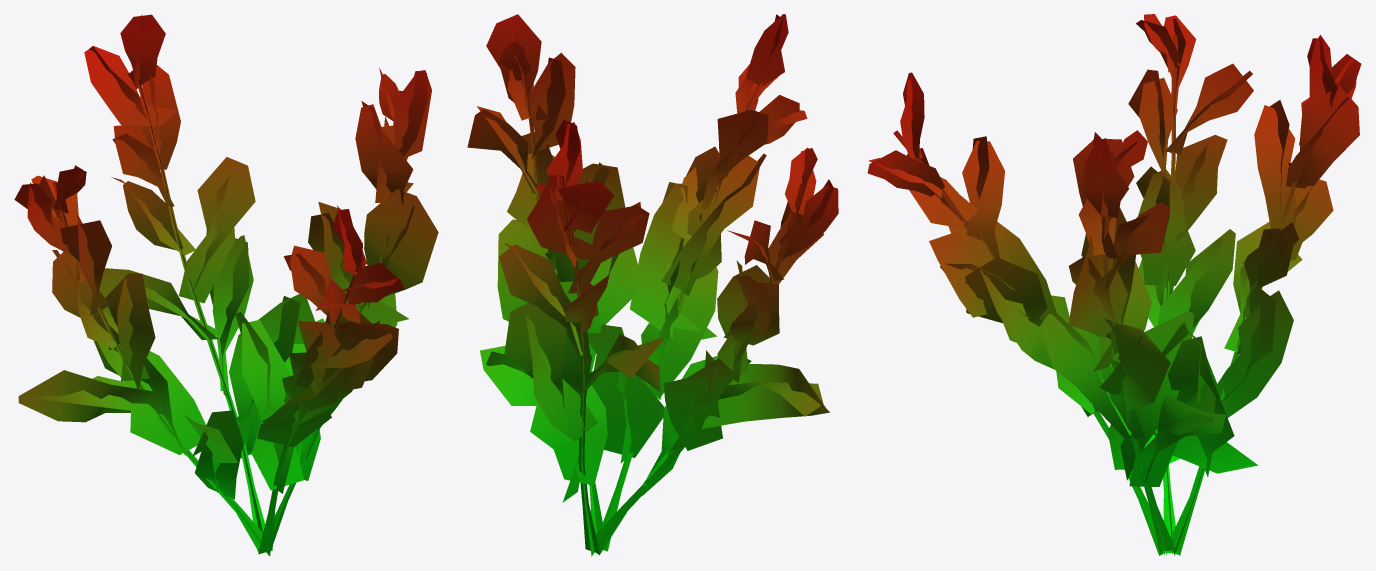
The model's file is Chamomile_LOD0_Var8_ujcnejvja.fbx.
3 renders of one model, left to right at view 1: azimuth 30°, elevation 25°; view 2: azimuth 150°, elevation 25°; view 3: azimuth 270°, elevation 25°, orthographic.
Parts seen in each view (by area): view 1: _uaeh_Var8_LOD0; view 2: _uaeh_Var8_LOD0; view 3: _uaeh_Var8_LOD0.
Boxes of the visible parts, x1,y1,x2,y2 form: _uaeh_Var8_LOD0: [14, 14, 438, 556]; _uaeh_Var8_LOD0: [467, 14, 838, 556]; _uaeh_Var8_LOD0: [867, 14, 1361, 555].
Size of the model in its own units: 22.36 by 27.99 by 25.34.
